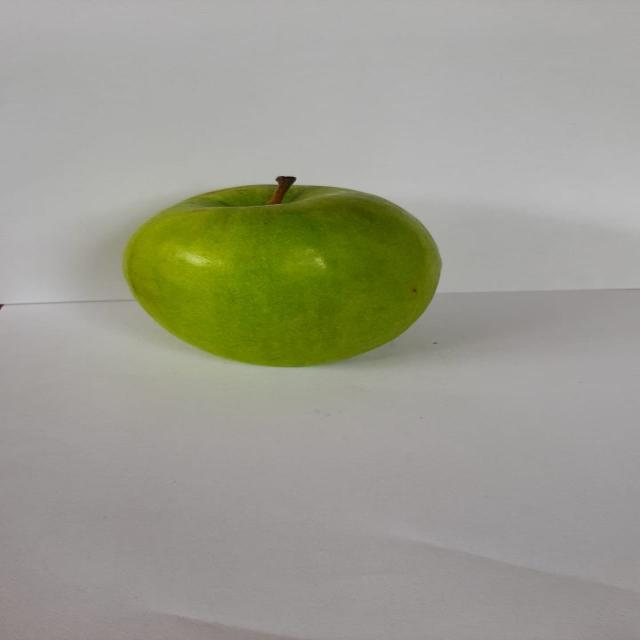50-_ripeness: (107, 164, 463, 376)
